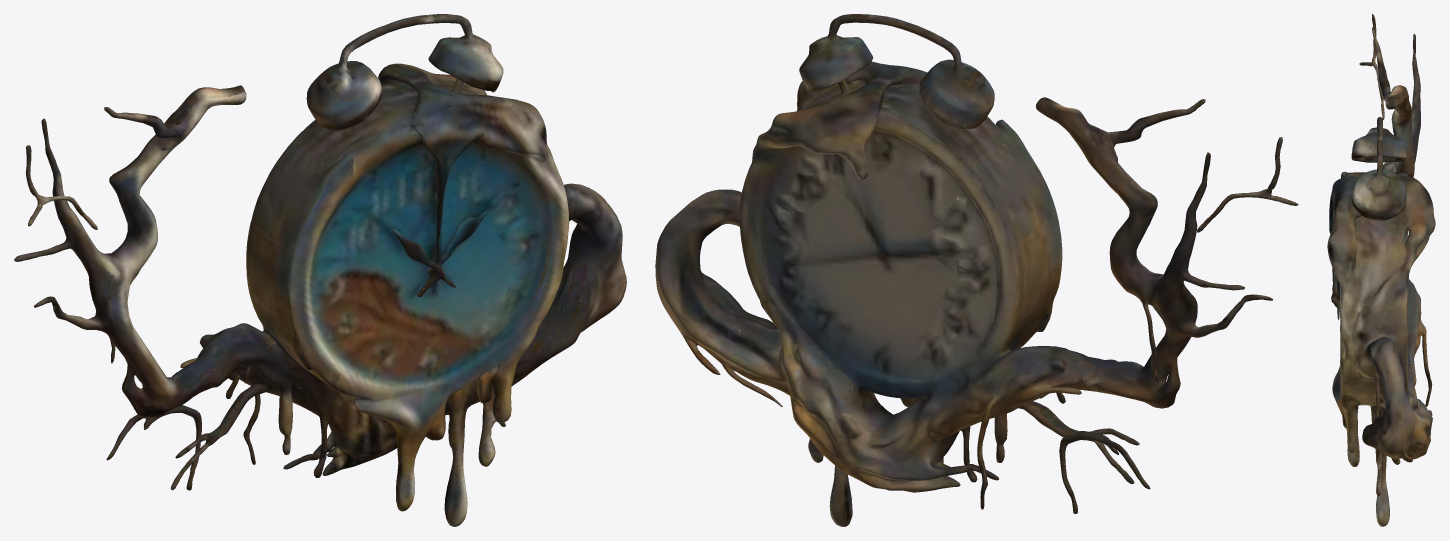
File: realistic-14k.glb
3 renders of one model, left to right at view 1: azimuth 30°, elevation 25°; view 2: azimuth 150°, elevation 25°; view 3: azimuth 270°, elevation 25°, orthographic. The views are drawn at different scales.
Size of the model in its own units: 2 by 1.61 by 0.4176.
Materials: 1 (1 with a texture image).
